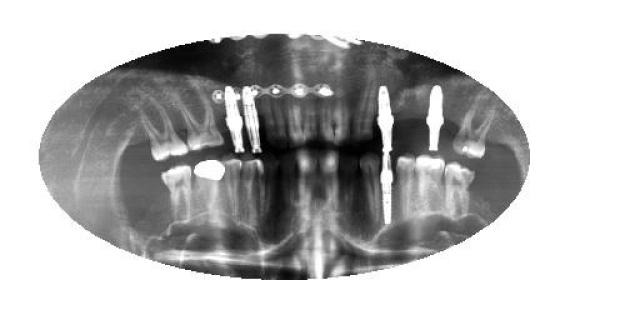Fillings: (452, 101, 497, 160), (194, 158, 226, 222), (415, 154, 445, 212)
Implant: (224, 84, 246, 154), (242, 84, 262, 154), (425, 84, 445, 152), (377, 85, 395, 153), (379, 151, 395, 225)
